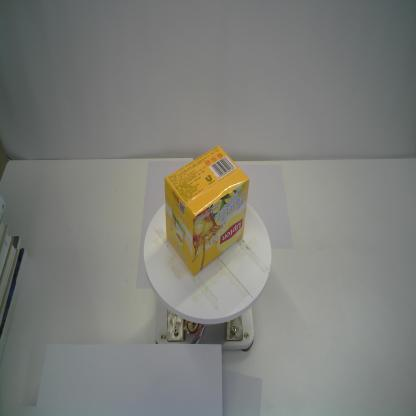Instant Drink: (163, 145, 251, 277)
